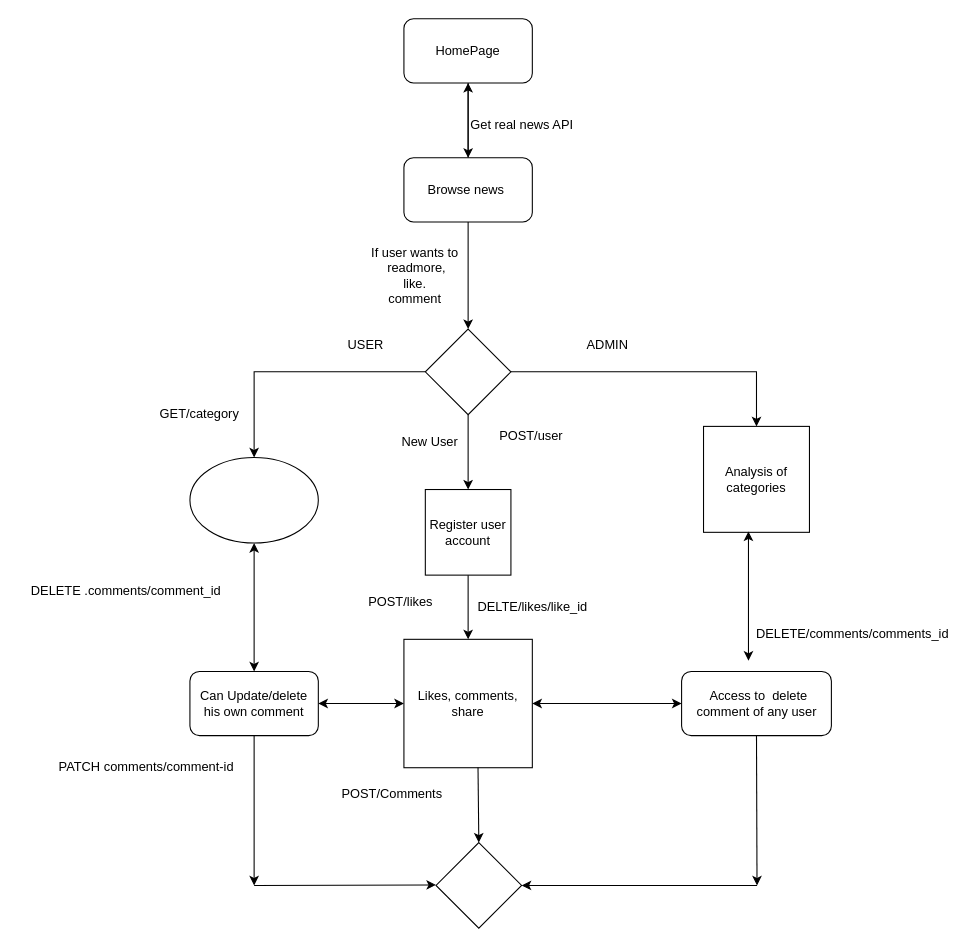
Image size: 977x947. Some labels were removed from this diagram. Each missing label, with the box of its shape:
Browse news by category: (189, 456, 318, 543)
LOGIN: (424, 328, 511, 415)
Logout: (435, 842, 522, 928)
